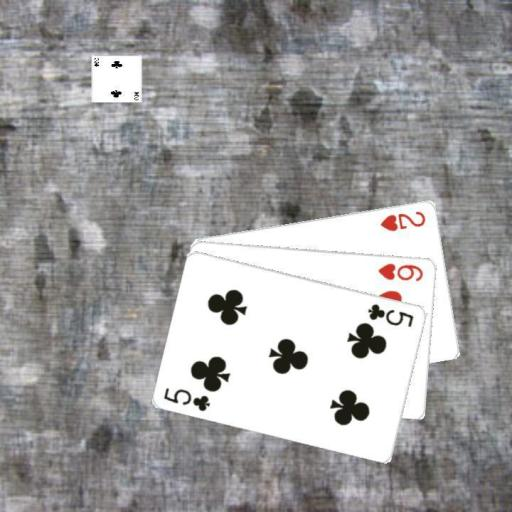card-corner: (365, 300, 416, 328), (161, 384, 212, 412), (377, 207, 427, 232), (376, 260, 426, 282)
